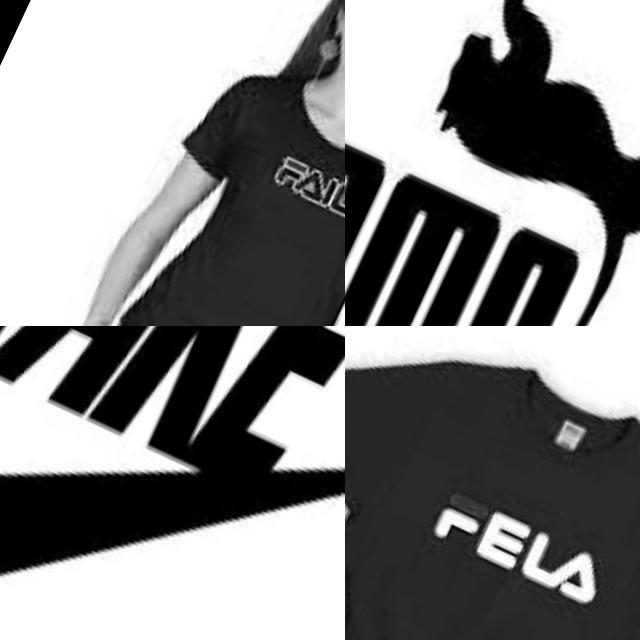FILA_fake: (403, 446, 635, 630), (261, 146, 345, 239)
NIKE_fake: (0, 326, 345, 640)
PUMA_fake: (345, 0, 640, 326)
